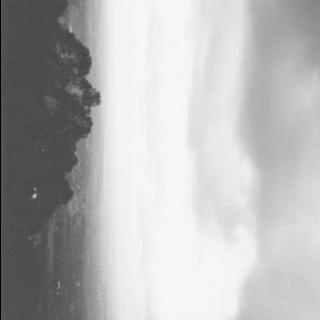Stratocumulus: (84, 0, 320, 320)
